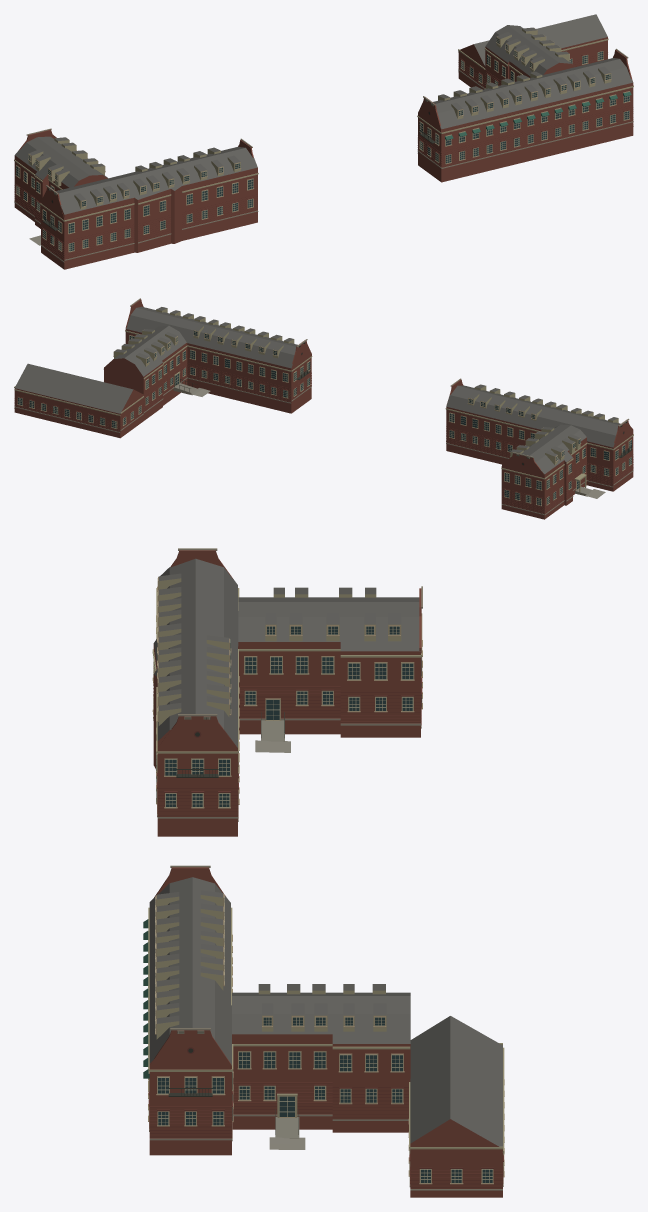
Rendered from site.glb.
3 renders of one model, top to bottom at view 1: azimuth 30°, elevation 25°; view 2: azimuth 150°, elevation 25°; view 3: azimuth 270°, elevation 25°, orthographic. The views are drawn at different scales.
Parts seen in each view (by area): view 1: roof-e145c222, roof-fd061857; view 2: roof-e145c222, roof-fd061857; view 3: roof-e145c222, roof-fd061857, womens-quad-approaches.
Part boxes in pixels (x1,y1,x2,y2): roof-e145c222: [417, 14, 633, 182]; roof-fd061857: [14, 128, 258, 269]; roof-e145c222: [14, 298, 312, 438]; roof-fd061857: [445, 378, 633, 519]; roof-e145c222: [143, 865, 504, 1197]; roof-fd061857: [152, 548, 422, 836]; womens-quad-approaches: [255, 740, 305, 1149].
Size of the model in its own units: 132 by 15.12 by 38.52.
